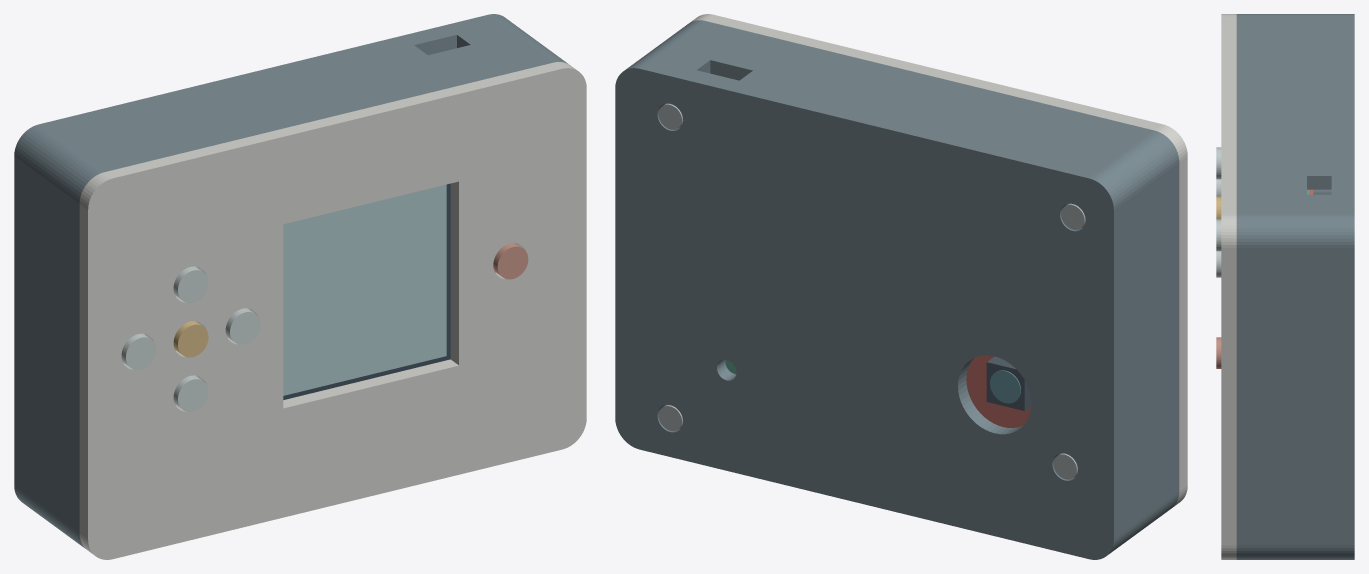
File: assembly.glb
The picture shows the model from 3 angles, left to right: view 1: azimuth 30°, elevation 25°; view 2: azimuth 150°, elevation 25°; view 3: azimuth 270°, elevation 25°; orthographic projection. The views are drawn at different scales.
Parts seen in each view (by area): view 1: lid, base, lcd_active, lcd_glass, button_4, button_5, button_1, button_6, button_2, button_3; view 2: base, lid, case_screw_heads, camera_board, camera_lens, camera_glass; view 3: base, lid, button_1, button_4, button_6.
Boxes of the visible parts, bbox=[...] form: lid: bbox=[79, 62, 586, 559]; base: bbox=[14, 14, 567, 548]; lcd_active: bbox=[283, 184, 446, 395]; lcd_glass: bbox=[283, 183, 450, 399]; button_4: bbox=[225, 308, 260, 344]; button_5: bbox=[173, 321, 208, 357]; button_1: bbox=[173, 266, 208, 302]; button_6: bbox=[493, 243, 528, 279]; button_2: bbox=[173, 375, 208, 411]; button_3: bbox=[121, 333, 156, 370]; base: bbox=[615, 20, 1179, 559]; lid: bbox=[690, 14, 1187, 507]; case_screw_heads: bbox=[658, 103, 1085, 479]; camera_board: bbox=[966, 355, 1031, 427]; camera_lens: bbox=[986, 356, 1031, 410]; camera_glass: bbox=[990, 370, 1020, 403]; base: bbox=[1236, 14, 1354, 559]; lid: bbox=[1221, 14, 1236, 559]; button_1: bbox=[1216, 147, 1221, 179]; button_4: bbox=[1216, 219, 1221, 251]; button_6: bbox=[1216, 337, 1221, 368].
Size of the model in its own units: 81.4 by 59.4 by 21.7.
